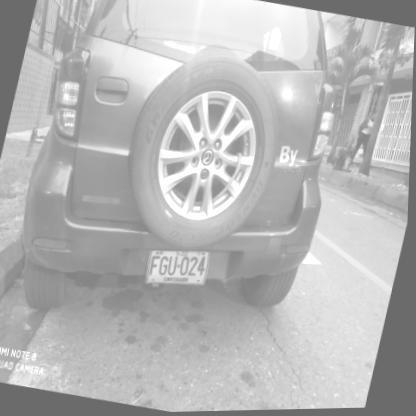placa: (137, 232, 219, 298)
